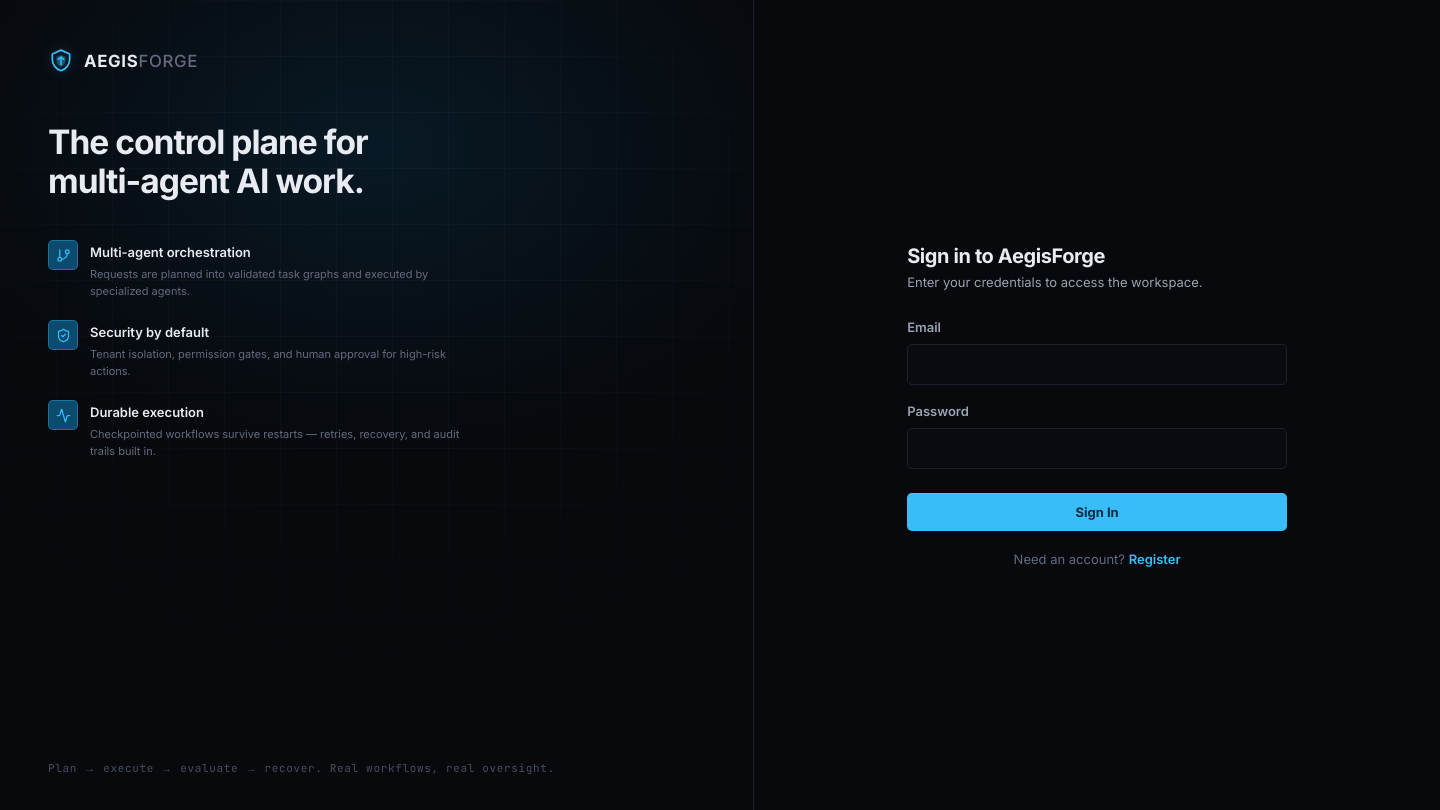
Scenario: LoginPage › switches to registration and shows the full-name field
Click the button "Register": click(1155, 559) x1=1129 y1=551 x2=1181 y2=567
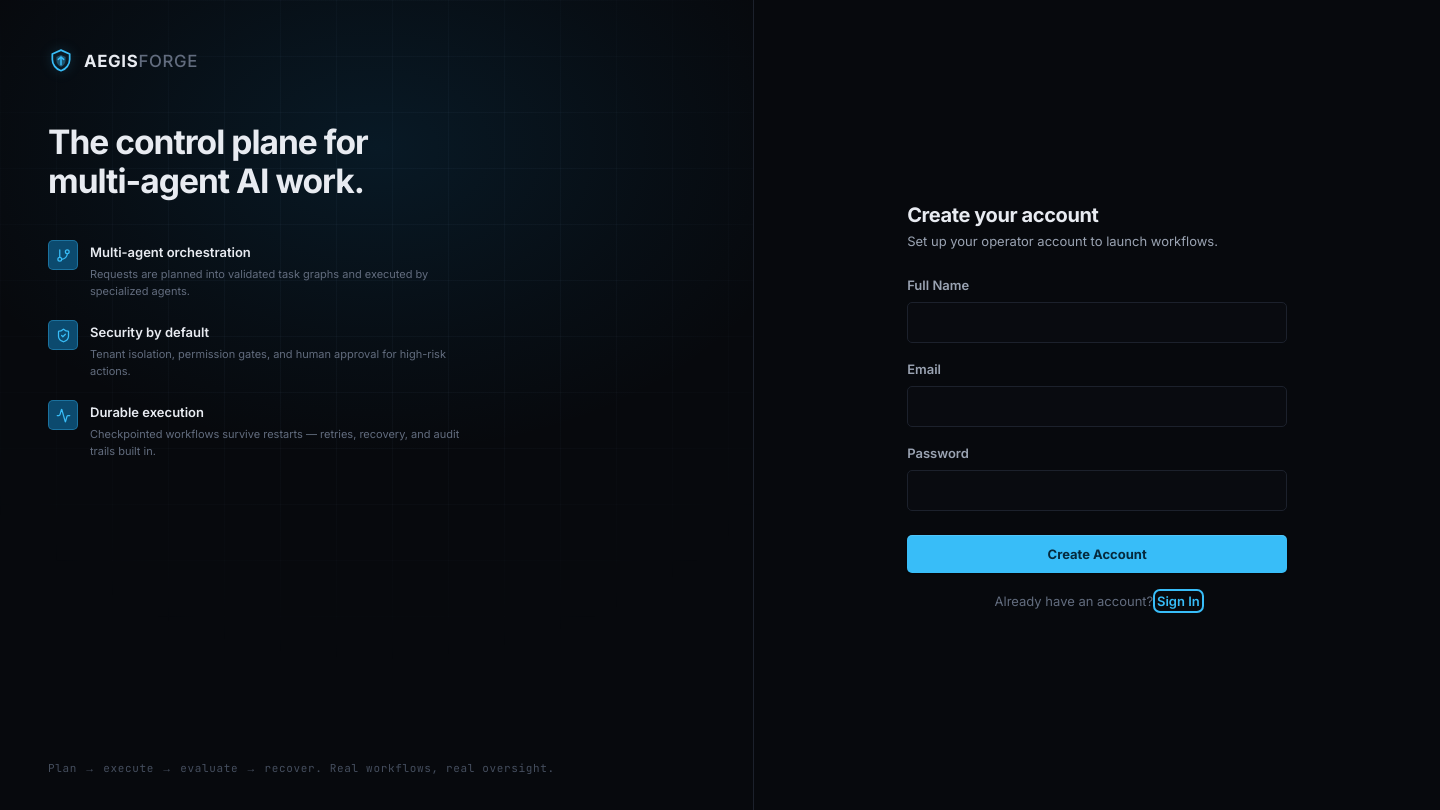
Check: the field labelled "Full Name" is shown, box x1=907 y1=302 x2=1287 y2=343
Check: the button "Create Account" is shown, box x1=907 y1=535 x2=1287 y2=573
